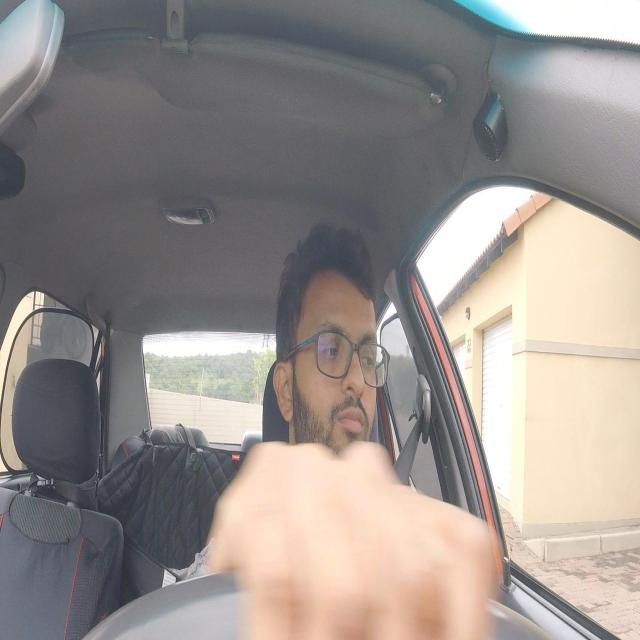open: (316, 322, 348, 384), (357, 329, 381, 385)
